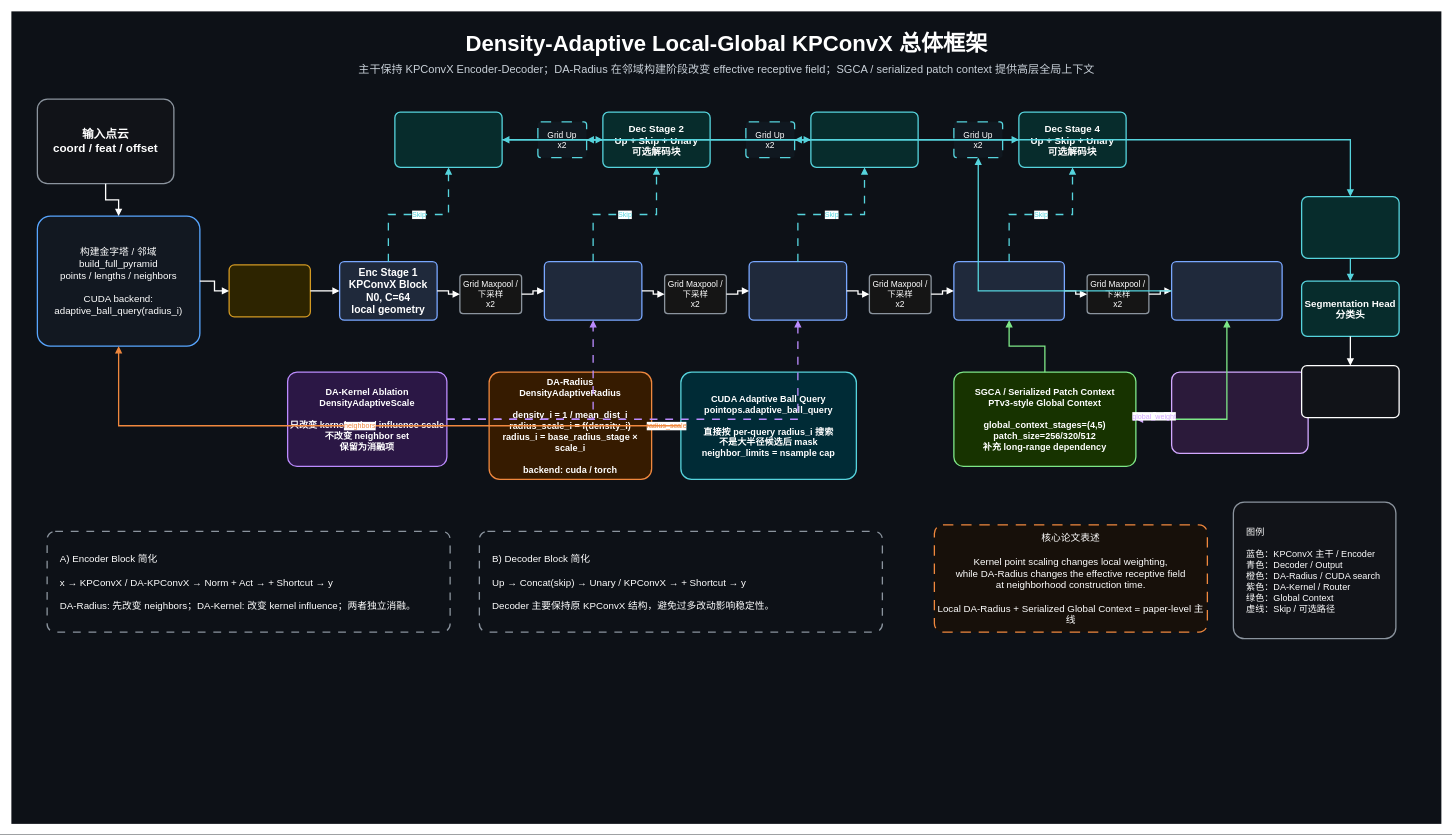
The diagram is 1452 pixels wide and 835 high, and some of its shapes have lost their labels. The centre of each missing label's shape, as x and y in pixels:
"Dec Stage 1 Up + Skip + Unary 可选解码块" belongs at point 448,139.
"Dec Stage 3 Up + Skip + Unary 可选解码块" belongs at point 864,139.
"Enc Stage 2 DA-KPConvX N1=N0/2 C≈96" belongs at point 592,290.
"Enc Stage 3 DA-KPConvX N2=N0/4 C≈128" belongs at point 797,290.
"Enc Stage 4 DA-KPConvX + Global N3=N0/8 C≈192" belongs at point 1009,290.
"Enc Stage 5 Bottleneck + Global N4=N0/16 C≈256" belongs at point 1226,290.
"Geometry Router 可选插件 输出 global_weight 控制 global context fusion" belongs at point 1239,412.
"Refine Head 残差注入 coords + boundary cue" belongs at point 1350,227.
"Stem KPConvX 起始卷积" belongs at point 269,290.
"输出 logits 类别预测" belongs at point 1350,391.
